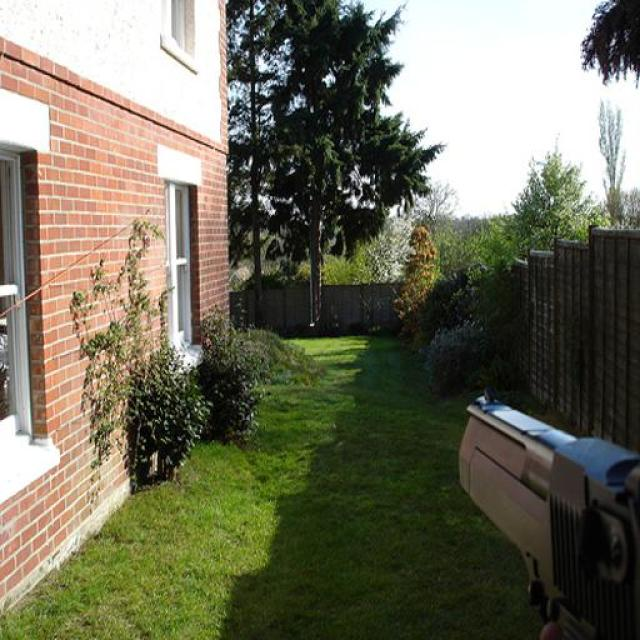pistol: (455, 384, 636, 638)
